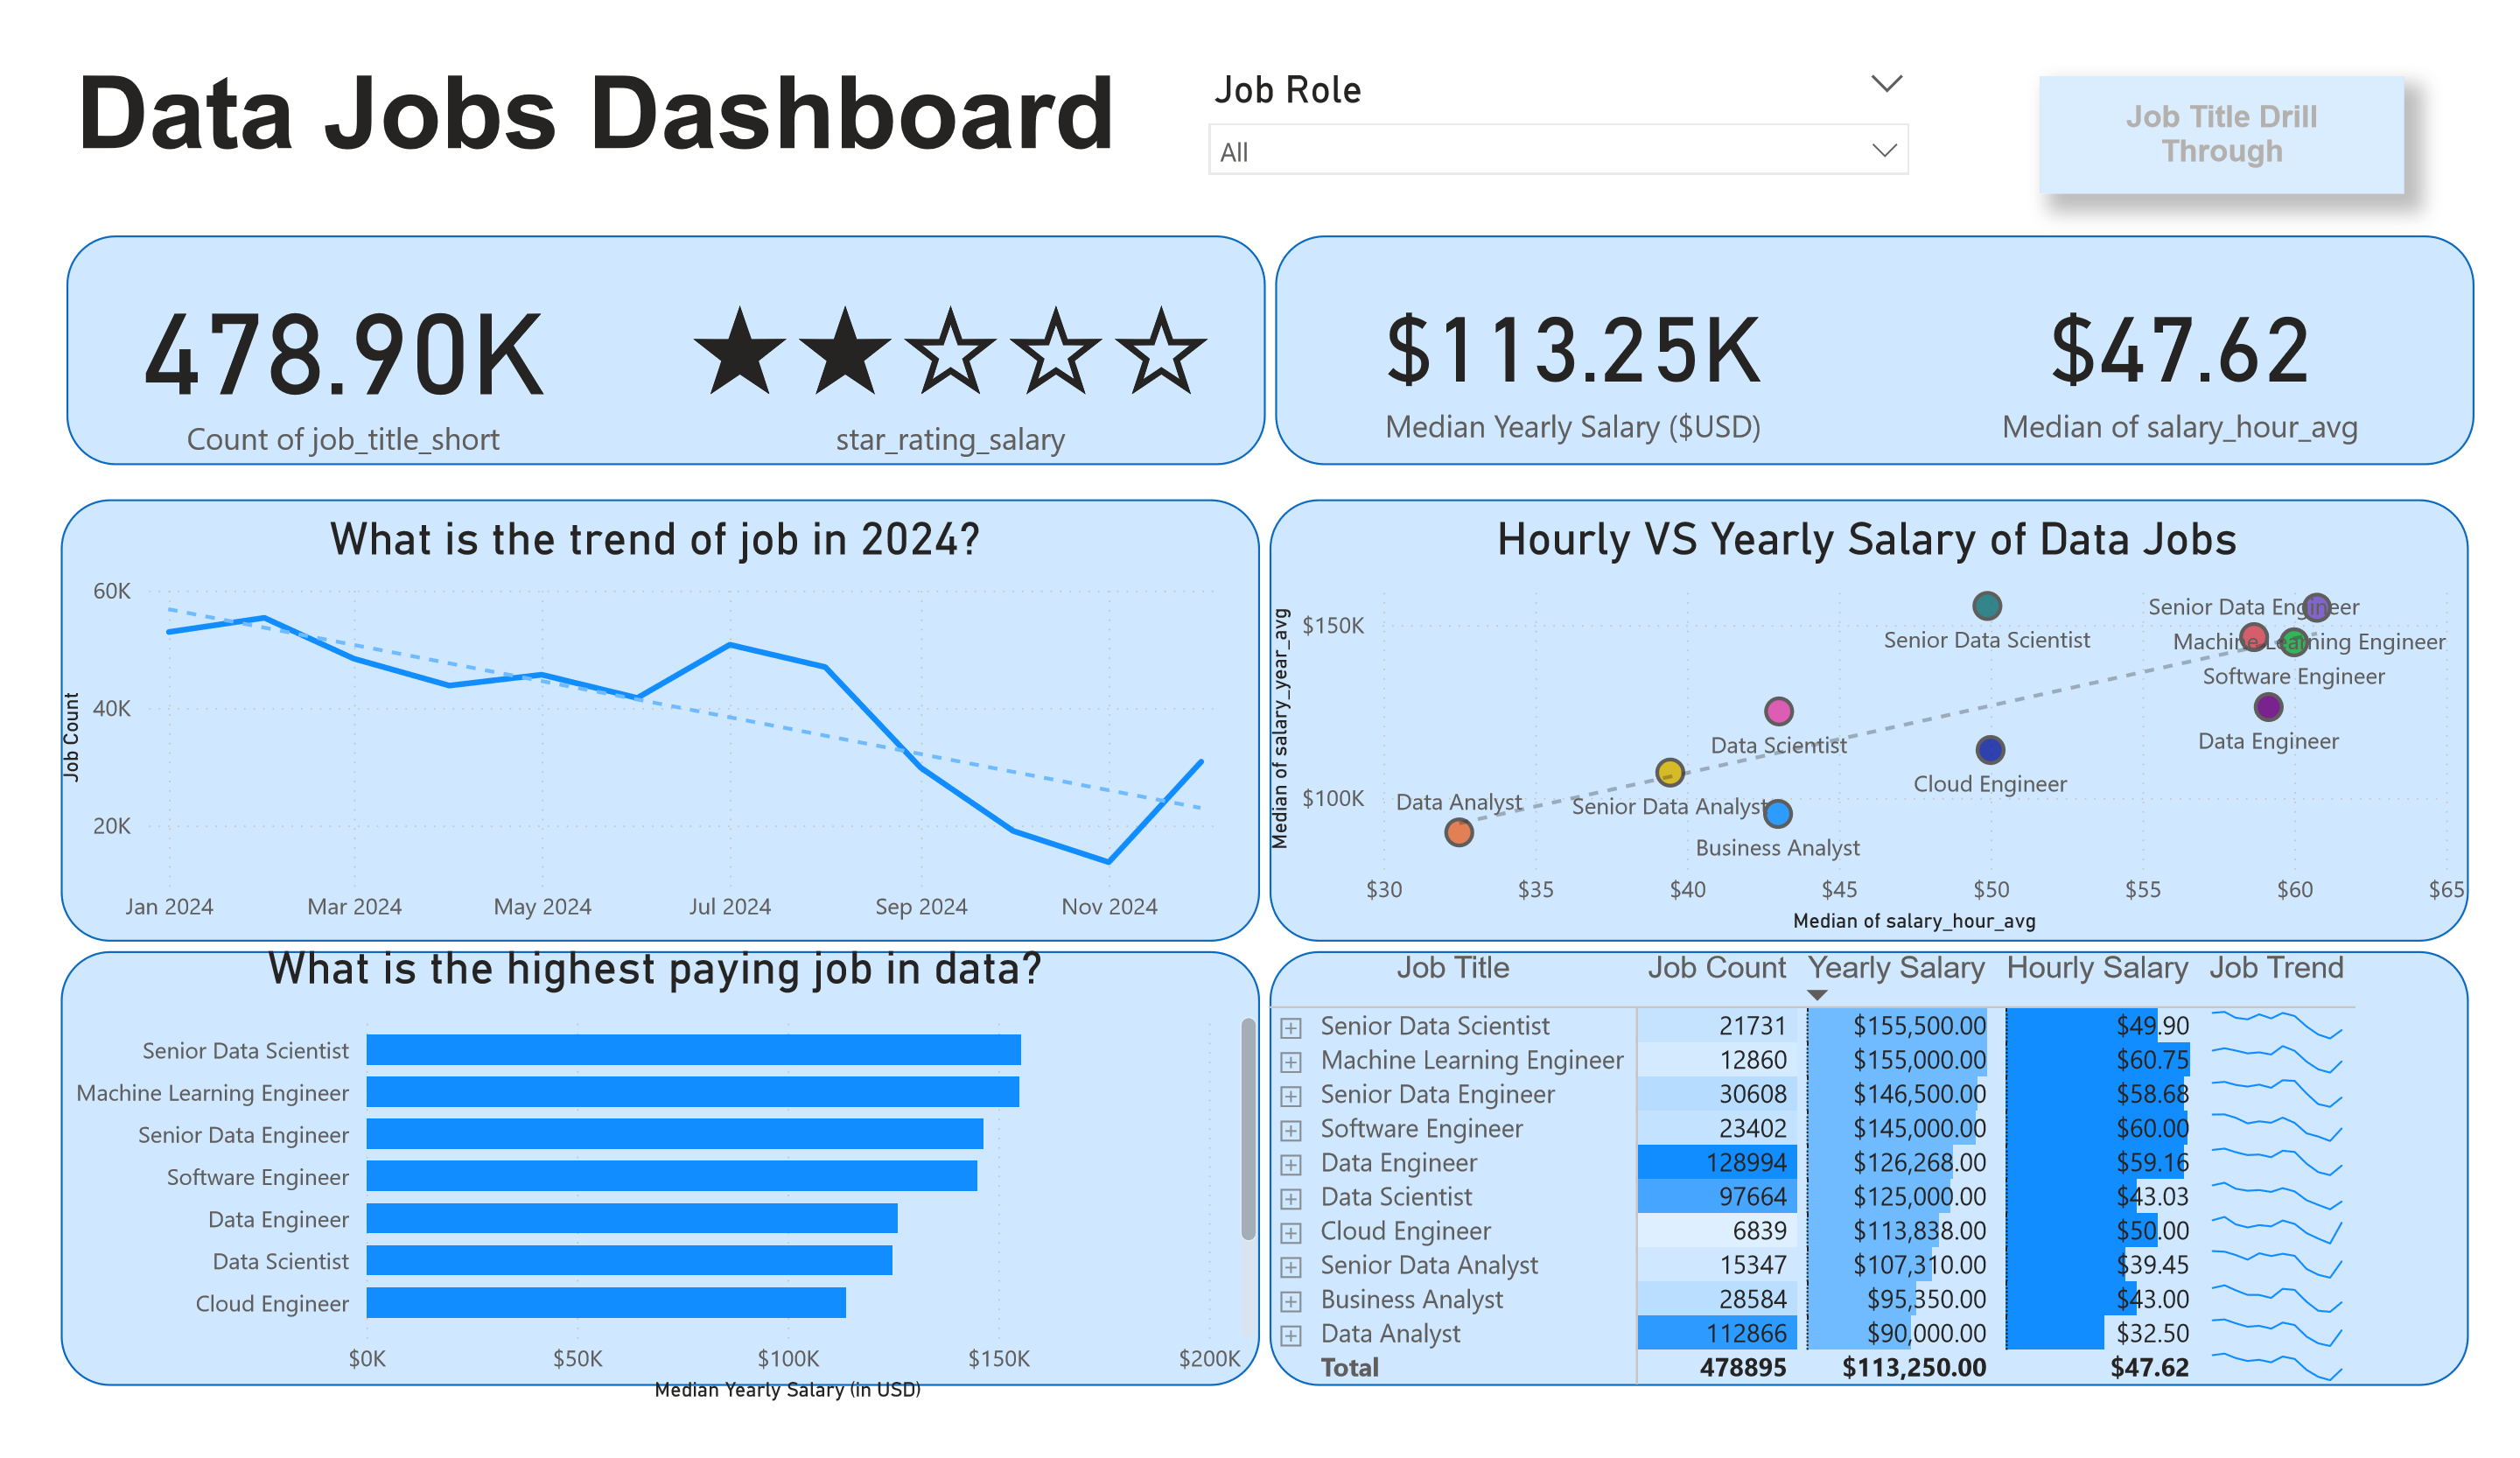

The page's visual inventory and layout, read from the dashboard file:
{"tool":"powerbi","page":{"name":"Dashboard","canvas":[1280,720],"ordinal":0},"visuals":[{"type":"group","id":"g1","title":"Group 1","box":[7.8,99.7,1272.2,605.7],"z":0},{"type":"shape","box":[10.9,99.7,632.2,121.5],"z":0,"group":"g1"},{"type":"textbox","box":[11,0,564.8,84.4],"z":1000},{"type":"shape","box":[647.8,99.7,632.2,121.5],"z":1000,"group":"g1"},{"type":"slicer","fields":{"Values":["job_postings_flat.job_title_short"]},"box":[602.6,6.2,389.3,71.6],"z":2000},{"type":"shape","box":[7.8,238.3,632.2,233.6],"z":2000,"group":"g1"},{"type":"card","fields":{"Values":["Median(job_postings_flat.salary_year_avg)"]},"box":[640,84,329.7,161.6],"z":3000},{"type":"shape","box":[644.7,238.3,632.2,233.6],"z":3000,"group":"g1"},{"type":"card","fields":{"Values":["Median(job_postings_flat.salary_hour_avg)"]},"box":[970.1,84.4,309.9,161.4],"z":4000},{"type":"shape","box":[644.7,476.5,632.2,228.9],"z":4000,"group":"g1"},{"type":"card","fields":{"Values":["job_postings_flat.star_rating_salary"]},"box":[314.2,84,325.8,161.6],"z":5000},{"type":"shape","box":[7.8,476.5,632.2,228.9],"z":5000,"group":"g1"},{"type":"card","title":"Job Count","fields":{"Values":["CountNonNull(job_postings_flat.job_title_short)"]},"box":[0,84.4,313.6,161.4],"z":6000},{"type":"lineChart","title":"What is the trend of job in 2024?","fields":{"Y":["CountNonNull(job_postings_flat.job_title_short)"],"Category":["job_postings_flat.job_posted_date.Variation.Date Hierarchy.Year","job_postings_flat.job_posted_date.Variation.Date Hierarchy.Month"]},"box":[3.1,246,636.9,225.8],"z":7000},{"type":"barChart","title":"What is the highest paying job in data?","fields":{"Category":["job_postings_flat.job_title_short"],"Y":["Median(job_postings_flat.salary_year_avg)"]},"box":[0,471.8,643.1,247.6],"z":8000},{"type":"scatterChart","title":"Hourly VS Yearly Salary of Data Jobs","fields":{"X":["Median(job_postings_flat.salary_hour_avg)"],"Y":["Median(job_postings_flat.salary_year_avg)"],"Series":["job_postings_flat.job_title_short"]},"box":[640,246,640,225.8],"z":9000},{"type":"pivotTable","fields":{"Rows":["job_postings_flat.job_title_short","job_postings_flat.job_posted_date.Variation.Date Hierarchy.Quarter"],"Values":["CountNonNull(job_postings_flat.job_title_short)","Median(job_postings_flat.salary_year_avg)","Median(job_postings_flat.salary_hour_avg)","SparklineData(CountNonNull(job_postings_flat.job_title_short)_[job_postings_flat.job_posted_date.Variation.Date Hierarch"]},"box":[640,471.8,640,247.6],"z":10000},{"type":"actionButton","title":"Job Title Drill Trough","box":[1051.1,15.6,191.5,62.3],"z":11000}]}

Visuals, with their boxes in screenshot pixels (x1, y1, x2, y2), scaled from the page's 1280x720 canvas onto the 2520x1458 screenshot:
"Group 1" group: [16, 202, 2519, 1428]
shape: [22, 202, 1266, 448]
textbox: [22, 0, 1134, 171]
shape: [1276, 202, 2519, 448]
slicer - job_postings_flat.job_title_short: [1186, 12, 1953, 158]
shape: [16, 482, 1260, 956]
card - Median(job_postings_flat.salary_year_avg): [1260, 170, 1909, 497]
shape: [1270, 482, 2514, 956]
card - Median(job_postings_flat.salary_hour_avg): [1910, 171, 2519, 498]
shape: [1270, 965, 2514, 1428]
card - job_postings_flat.star_rating_salary: [619, 170, 1260, 497]
shape: [16, 965, 1260, 1428]
"Job Count" card: [0, 171, 618, 498]
"What is the trend of job in 2024?" lineChart: [6, 498, 1260, 956]
"What is the highest paying job in data?" barChart: [0, 956, 1266, 1457]
"Hourly VS Yearly Salary of Data Jobs" scatterChart: [1260, 498, 2519, 956]
pivotTable - job_postings_flat.job_title_short x job_postings_flat.job_posted_date.Variation.Date Hierarchy.Quarter: [1260, 956, 2519, 1457]
"Job Title Drill Trough" actionButton: [2069, 32, 2446, 158]
